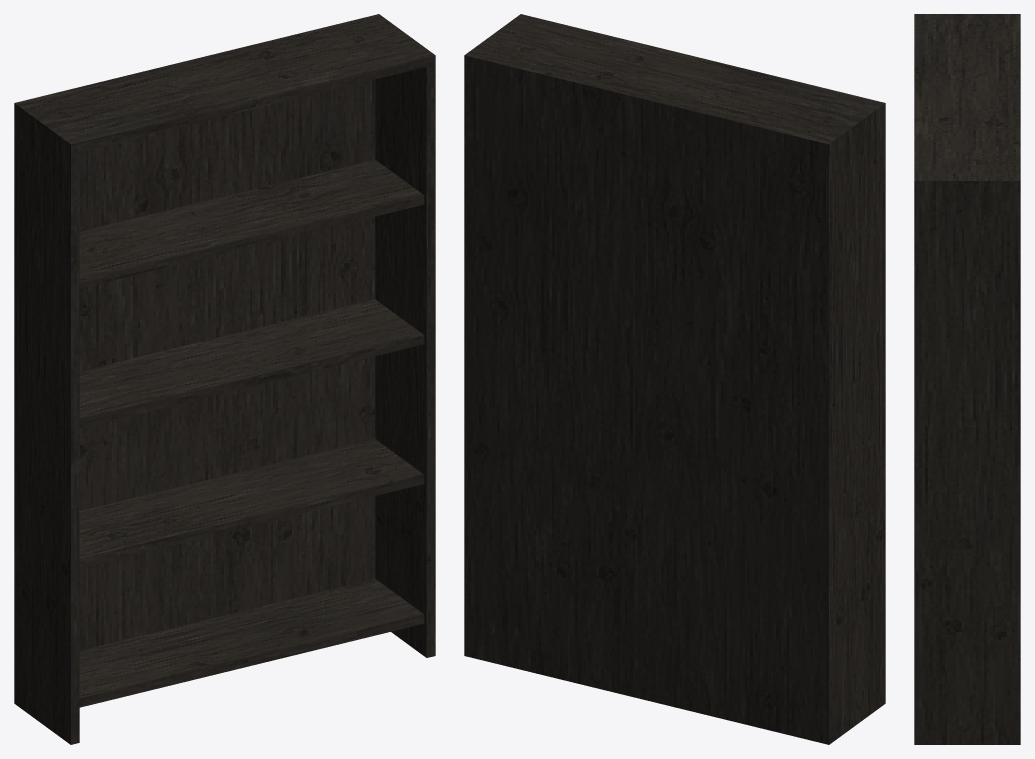
The model's file is shelf_mp_6.glb.
3 renders of one model, left to right at view 1: azimuth 30°, elevation 25°; view 2: azimuth 150°, elevation 25°; view 3: azimuth 270°, elevation 25°, orthographic. The views are drawn at different scales.
Visible parts, largest first — view 1: shelf_mp_6; view 2: shelf_mp_6; view 3: shelf_mp_6.
Part boxes in pixels (x1,y1,x2,y2): shelf_mp_6: (14, 14, 435, 744); shelf_mp_6: (464, 14, 885, 744); shelf_mp_6: (914, 14, 1020, 744).
Size of the model in its own units: 0.82 by 1.29 by 0.22.
1 material, 1 textured.
